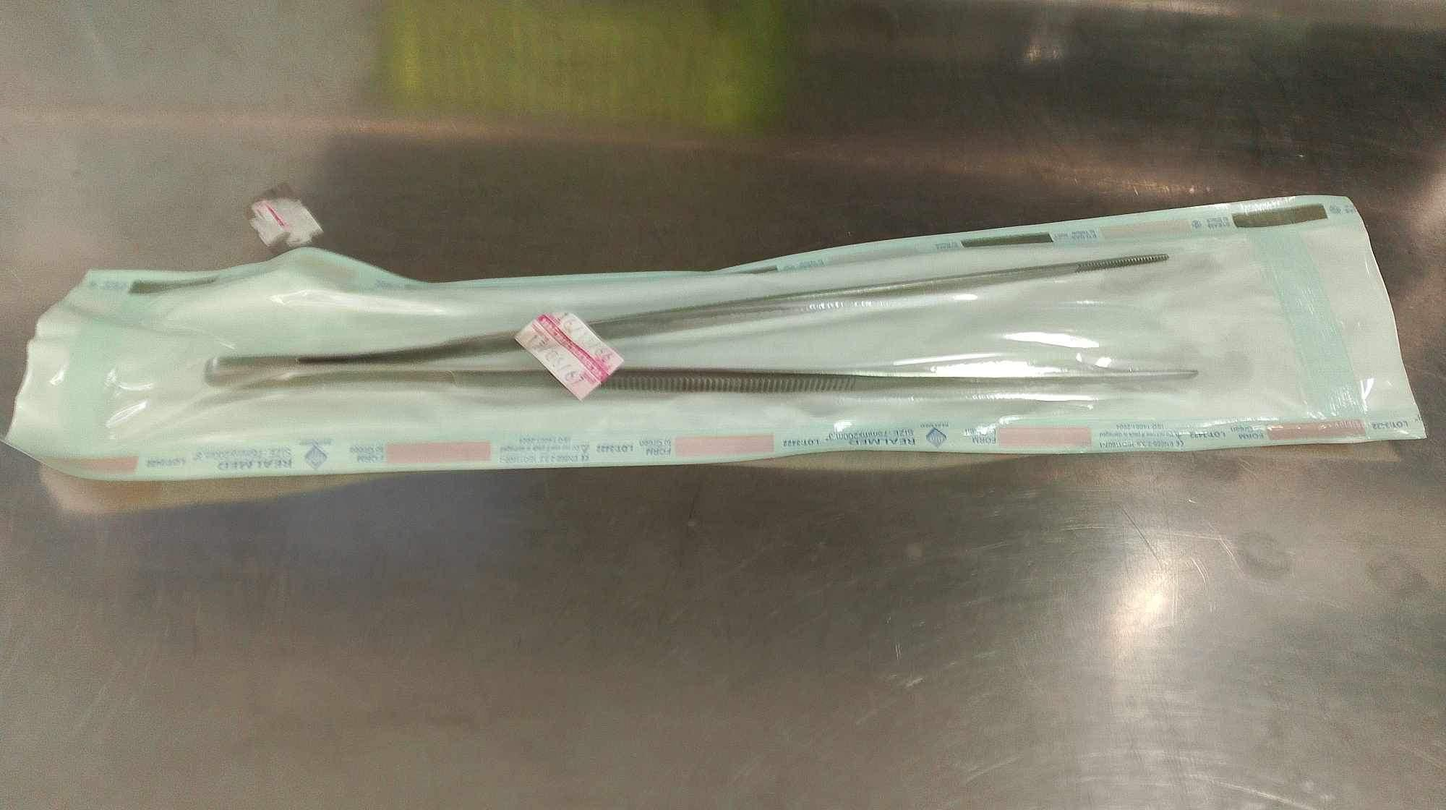General: (4, 189, 1427, 483)
